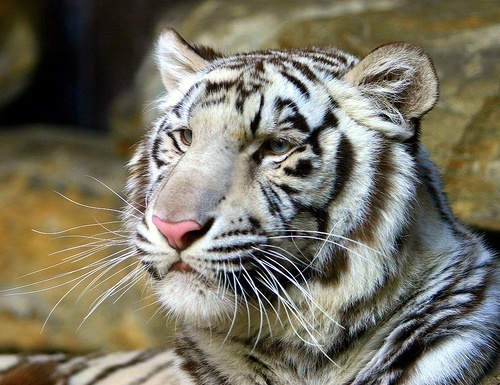tigre: (47, 21, 500, 381)
